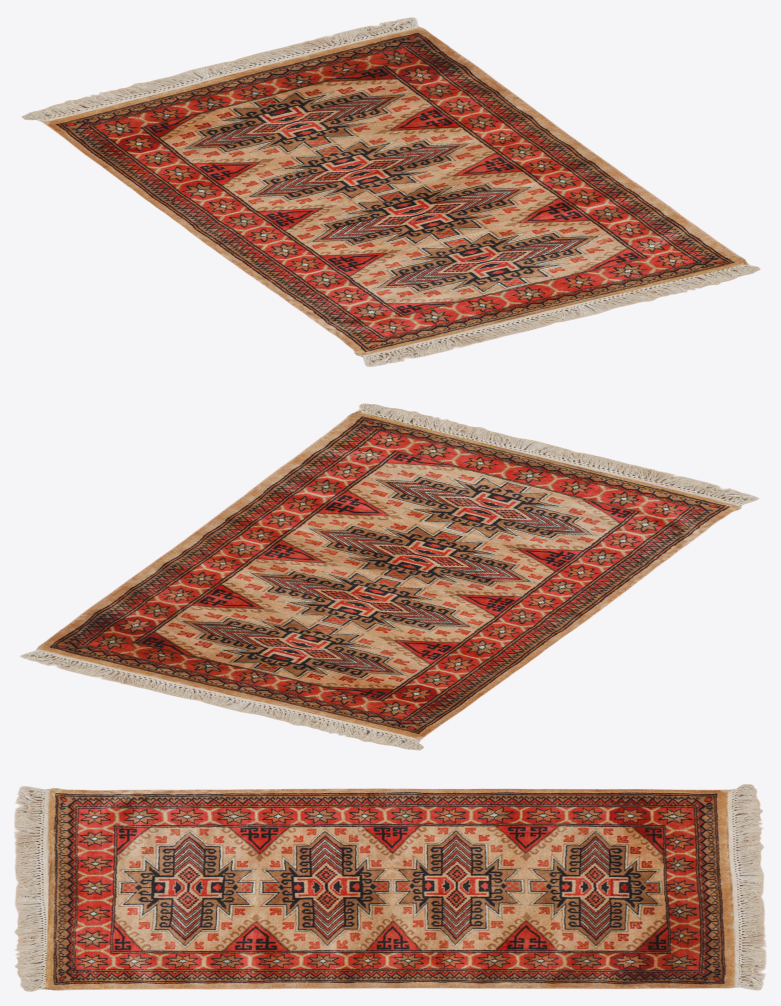
Rendered from carpet.glb.
The picture shows the model from 3 angles, top to bottom: view 1: azimuth 30°, elevation 25°; view 2: azimuth 150°, elevation 25°; view 3: azimuth 270°, elevation 25°; orthographic projection. The views are drawn at different scales.
Parts seen in each view (by area): view 1: Plane; view 2: Plane; view 3: Plane.
Part boxes in pixels (left/top/right/bottom): Plane: left=21, top=17, right=760, bottom=366; Plane: left=20, top=403, right=759, bottom=750; Plane: left=14, top=784, right=766, bottom=991.
Size of the model in its own units: 1.29 by 0 by 1.98.
Materials: 1 (1 with a texture image).
